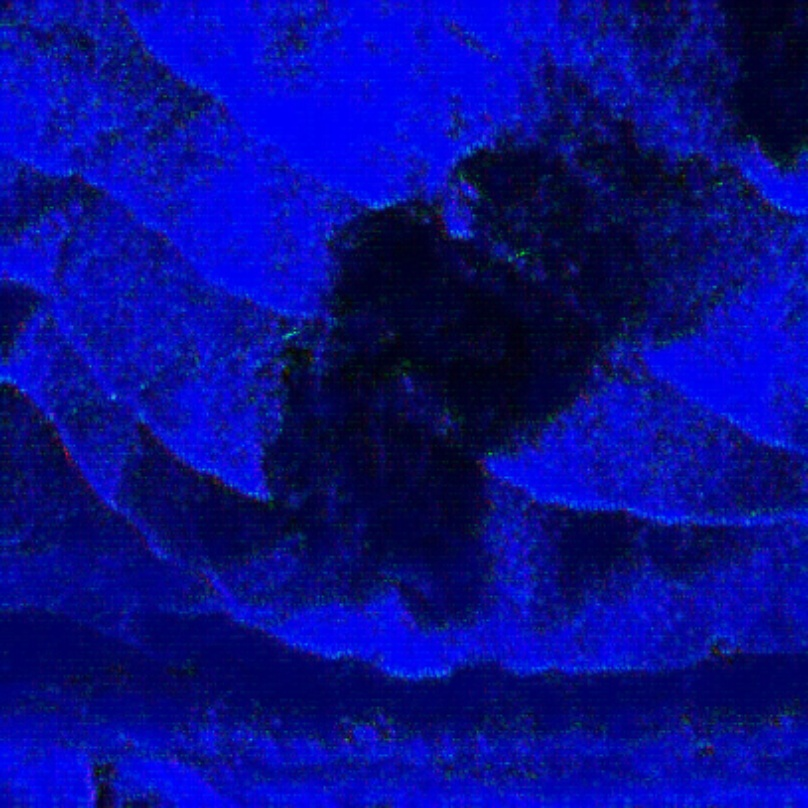rip_current: (191, 59, 726, 606)
